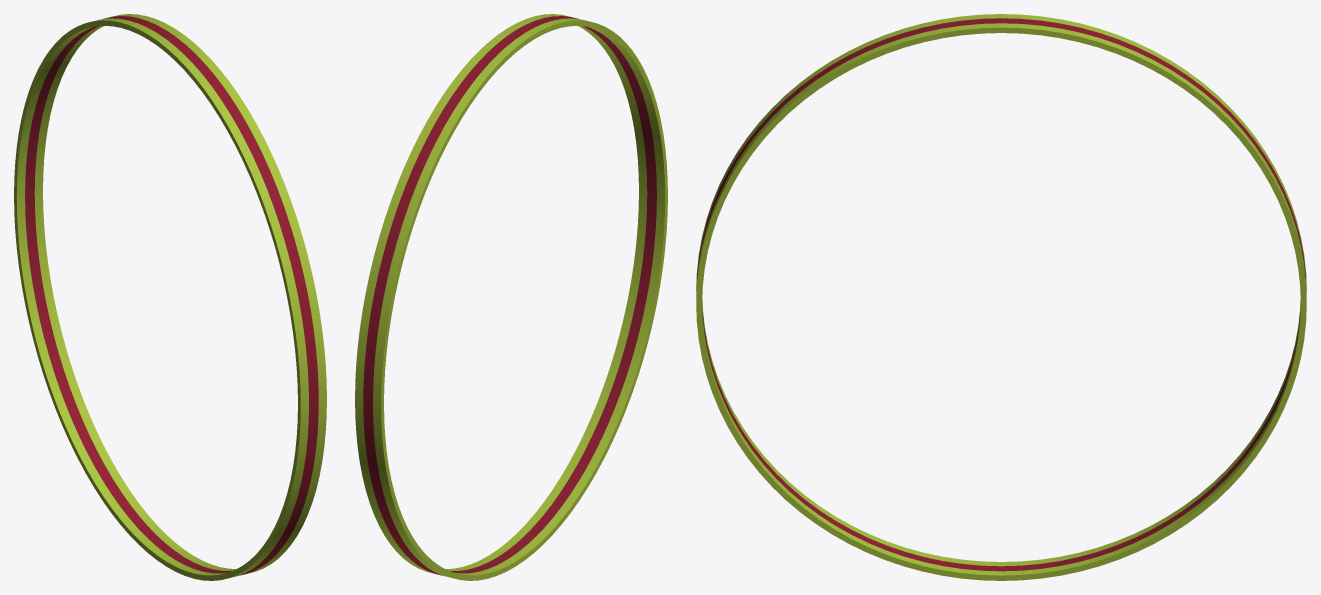
File: oil_seal_pressure.glb
The picture shows the model from 3 angles, left to right: view 1: azimuth 30°, elevation 25°; view 2: azimuth 150°, elevation 25°; view 3: azimuth 270°, elevation 25°; orthographic projection. The views are drawn at different scales.
Parts seen in each view (by area): view 1: pressure__front, pressure__back; view 2: pressure__back, pressure__front; view 3: pressure__back, pressure__front.
Boxes of the visible parts, x1=… form: pressure__front: x1=157, y1=34, x2=326, y2=580; pressure__back: x1=14, y1=14, x2=183, y2=559; pressure__back: x1=355, y1=34, x2=524, y2=580; pressure__front: x1=498, y1=14, x2=667, y2=559; pressure__back: x1=1001, y1=14, x2=1306, y2=580; pressure__front: x1=696, y1=14, x2=1001, y2=580.
Size of the model in its own units: 0.0054 by 0.1024 by 0.1024.
